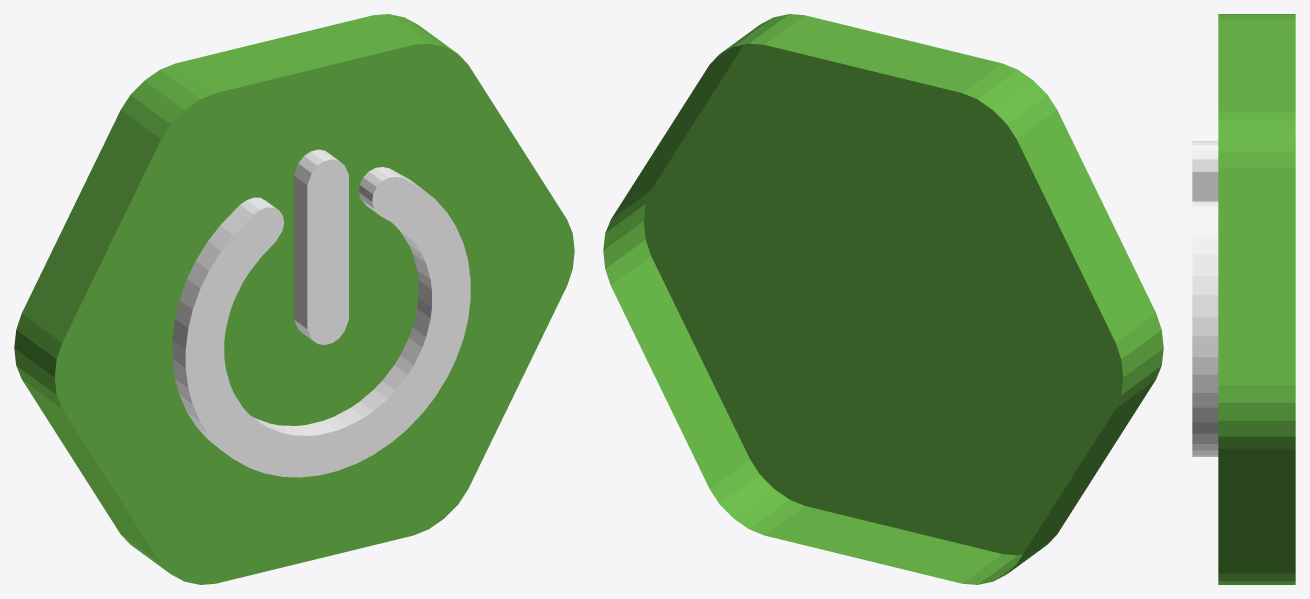
File: IconSpringboot.gltf
3 renders of one model, left to right at view 1: azimuth 30°, elevation 25°; view 2: azimuth 150°, elevation 25°; view 3: azimuth 270°, elevation 25°, orthographic. The views are drawn at different scales.
Visible parts, largest first — view 1: IconSpringboot; view 2: IconSpringboot; view 3: IconSpringboot.
Part boxes in pixels (box(x1,y1,x2,y2)): IconSpringboot: box(14, 14, 574, 584); IconSpringboot: box(603, 14, 1163, 584); IconSpringboot: box(1192, 14, 1295, 584).
Bounding box in the file's own units: 2.23 × 2.01 × 0.4.
